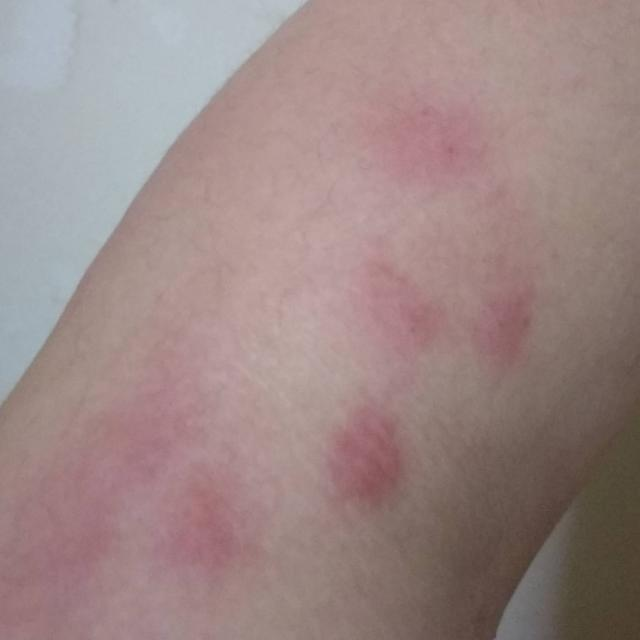kan emici bocekler: (375, 43, 515, 226), (155, 469, 286, 598), (302, 385, 396, 514), (344, 262, 449, 357), (474, 277, 546, 389)
